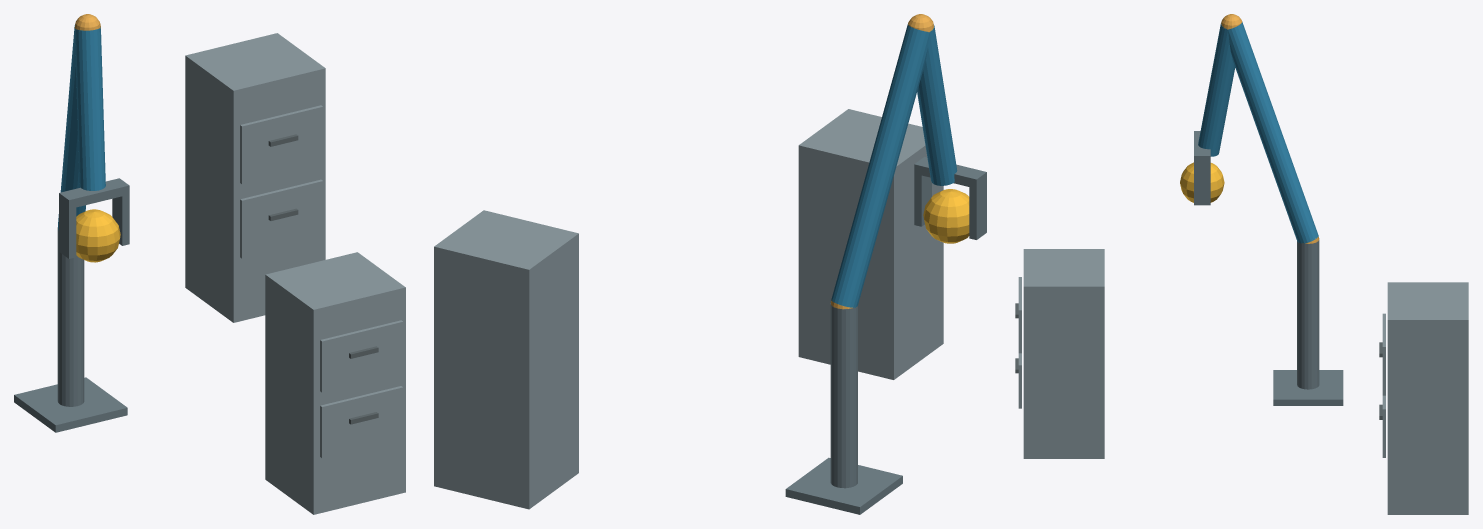
3 renders of one model, left to right at view 1: azimuth 30°, elevation 25°; view 2: azimuth 150°, elevation 25°; view 3: azimuth 270°, elevation 25°, orthographic. The views are drawn at different scales.
Parts seen in each view (by area): view 1: cabinet_2 body, cabinet_1 body, cabinet_2 drawer front, cabinet_2 drawer front.001, cabinet_1 drawer front.001, cabinet_1 drawer front, moving link 2, fixed post, pedestal, ball ball_1, moving link 1, gripper bridge (+2 smaller); view 2: cabinet_2 body, cabinet_1 body, moving link 1, fixed post, moving link 2, pedestal, ball ball_1, gripper finger -1, gripper bridge, gripper finger 1; view 3: cabinet_2 body, cabinet_1 body, moving link 1, fixed post, moving link 2, pedestal, ball ball_1, gripper finger 1.
Part boxes in pixels (left/top/right/bottom): cabinet_2 body: left=185, top=33, right=325, bottom=322; cabinet_1 body: left=265, top=252, right=405, bottom=514; cabinet_2 drawer front: left=240, top=179, right=323, bottom=258; cabinet_2 drawer front.001: left=240, top=105, right=323, bottom=184; cabinet_1 drawer front.001: left=320, top=320, right=403, bottom=392; cabinet_1 drawer front: left=320, top=386, right=403, bottom=458; moving link 2: left=74, top=27, right=105, bottom=190; fixed post: left=57, top=227, right=84, bottom=406; pedestal: left=14, top=377, right=127, bottom=432; ball ball_1: left=76, top=209, right=120, bottom=262; moving link 1: left=58, top=24, right=85, bottom=230; gripper bridge: left=59, top=178, right=129, bottom=209; cabinet_2 body: left=434, top=210, right=578, bottom=509; cabinet_1 body: left=798, top=109, right=943, bottom=379; moving link 1: left=831, top=24, right=929, bottom=307; fixed post: left=830, top=303, right=857, bottom=488; moving link 2: left=917, top=24, right=957, bottom=185; pedestal: left=785, top=457, right=902, bottom=514; ball ball_1: left=923, top=189, right=969, bottom=243; gripper finger -1: left=969, top=181, right=986, bottom=239; gripper bridge: left=914, top=157, right=986, bottom=188; gripper finger 1: left=914, top=173, right=931, bottom=226; cabinet_2 body: left=1387, top=282, right=1468, bottom=514; cabinet_1 body: left=1023, top=249, right=1104, bottom=458; moving link 1: left=1228, top=22, right=1318, bottom=243; fixed post: left=1297, top=240, right=1319, bottom=389; moving link 2: left=1198, top=24, right=1235, bottom=156; pedestal: left=1273, top=370, right=1343, bottom=405; ball ball_1: left=1180, top=162, right=1224, bottom=202; gripper finger 1: left=1194, top=163, right=1210, bottom=205.
Size of the model in its own units: 1.29 by 1.44 by 1.62.
